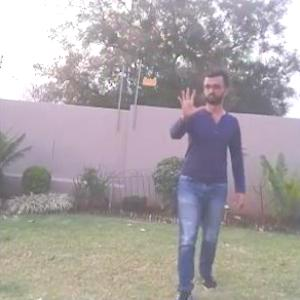follow_hand: (174, 83, 205, 118)
